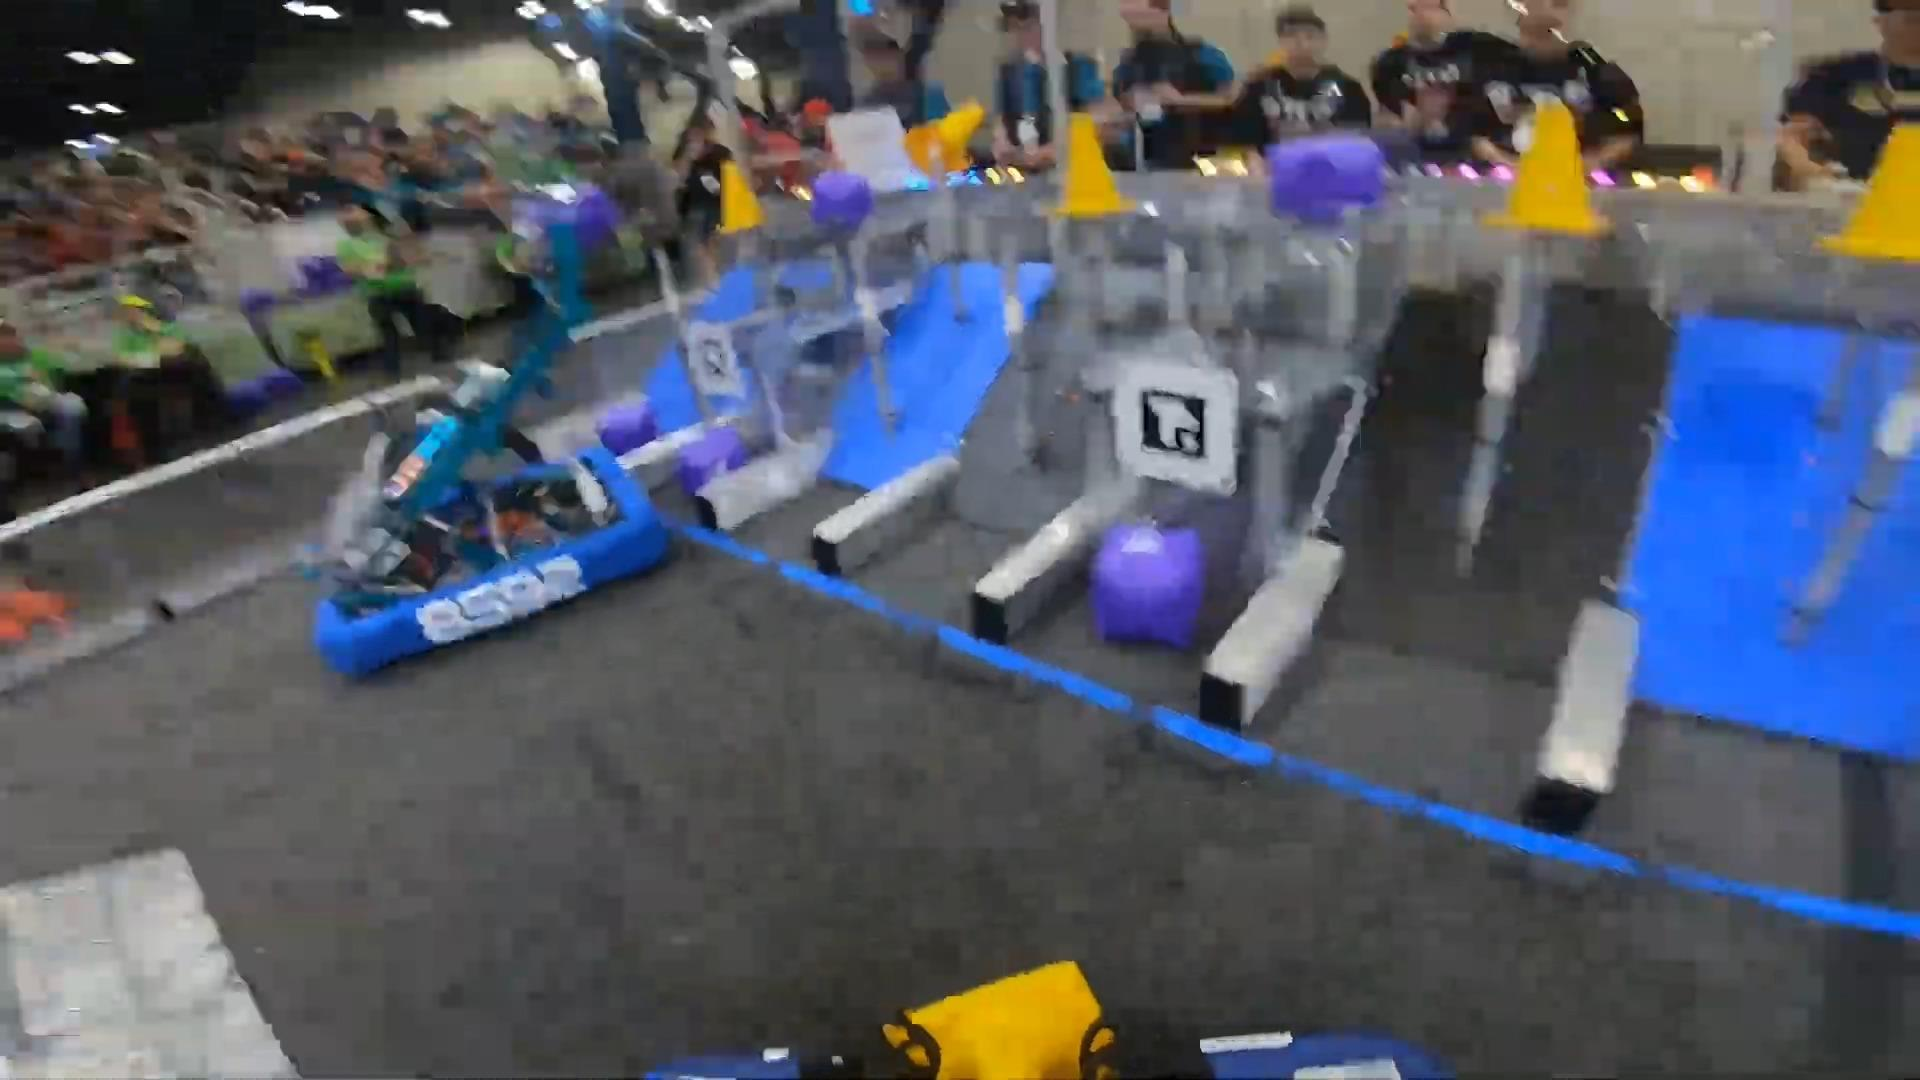robot: (301, 177, 679, 676)
